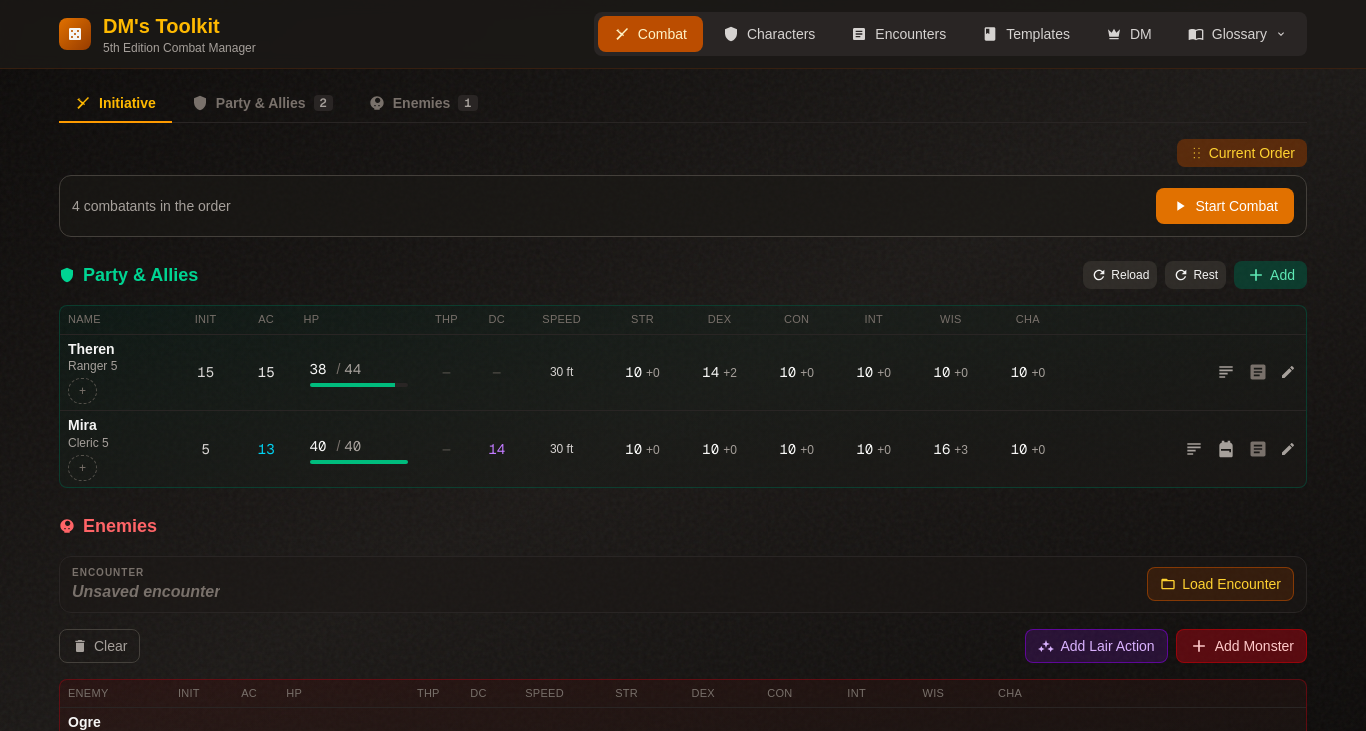
Scenario: CombatPage — turn tracker › the order opens only from Current Order above the tracker (no duplicate Full Order button)
The image size is (1366, 731).
Click the button "Start Combat" at (1225,206), box x1=1156 y1=188 x2=1294 y2=224
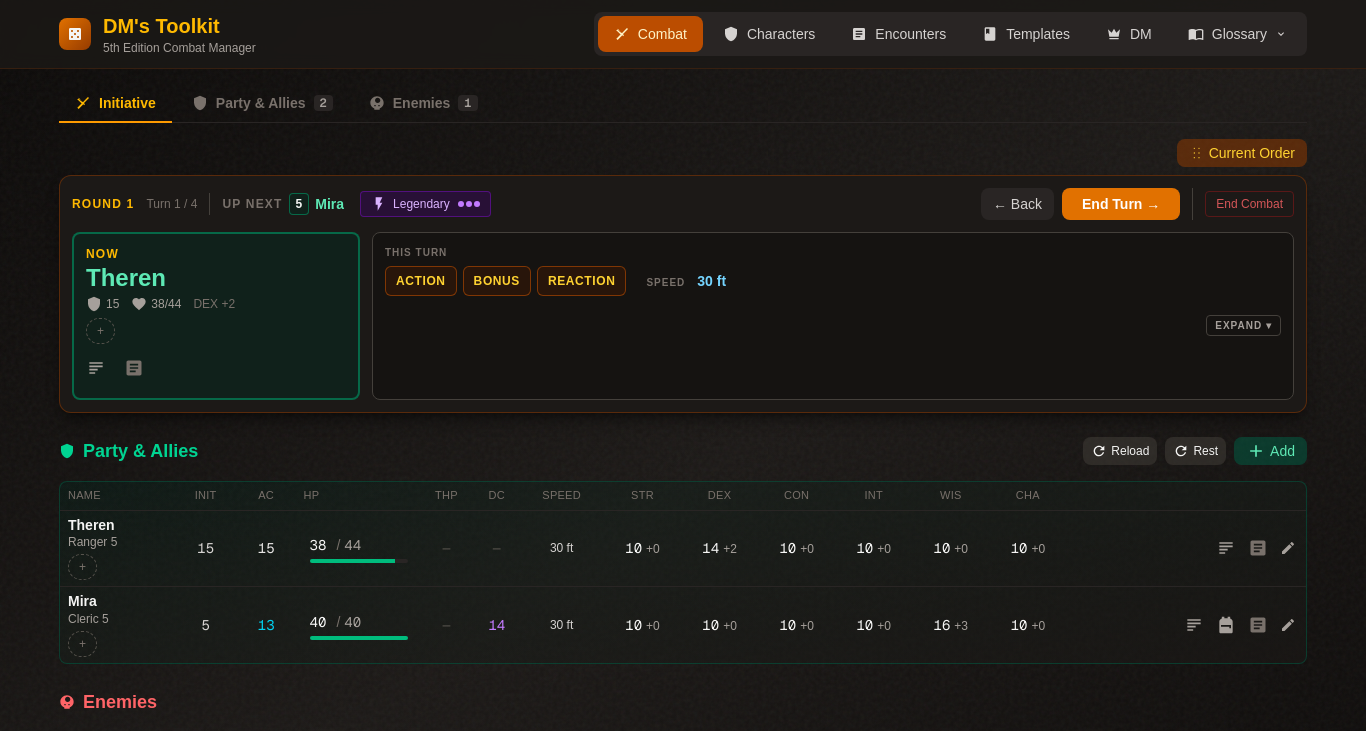
Click the button "Current Order" at (1242,153), box x1=1177 y1=139 x2=1307 y2=167
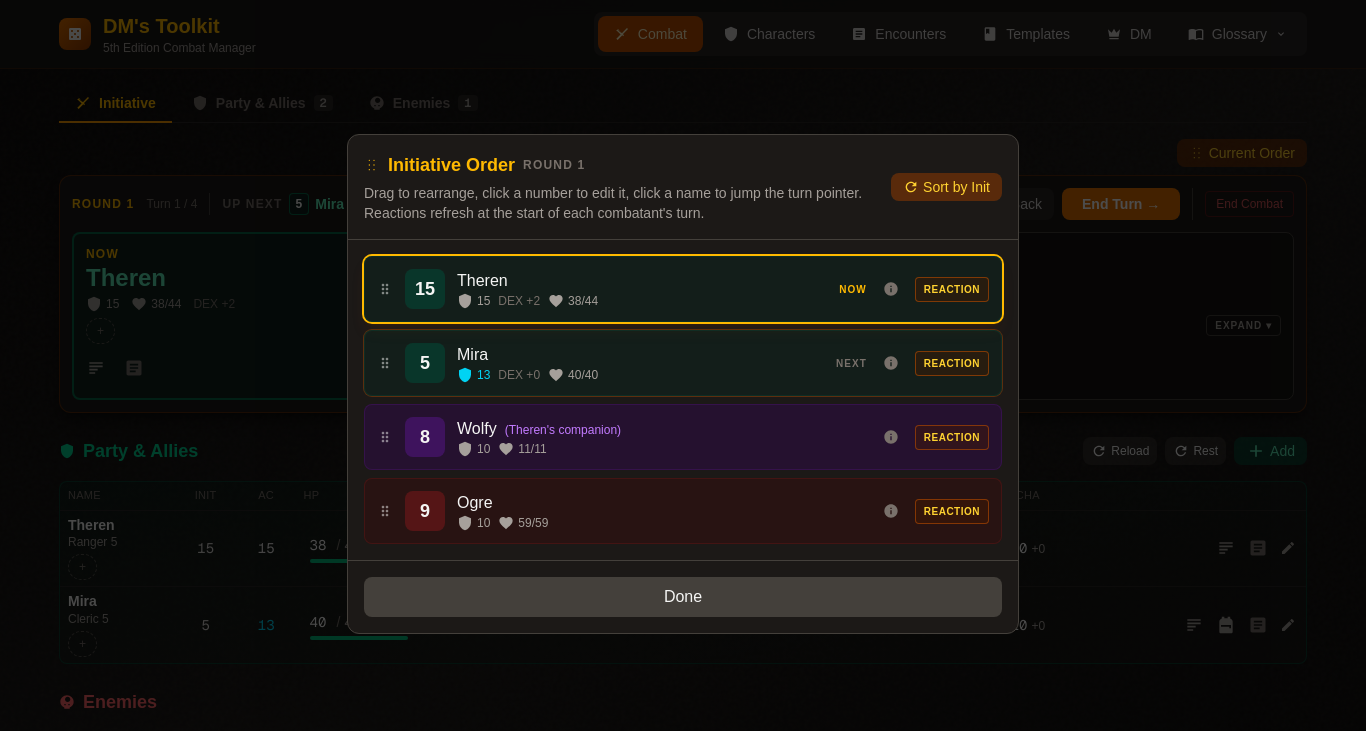
Expected: the text "Theren" is shown, x1=457 y1=272 x2=508 y2=289
Expected: the text "Mira" is shown, x1=457 y1=346 x2=488 y2=363
Expected: the text "Wolfy" is shown, x1=457 y1=420 x2=497 y2=437
